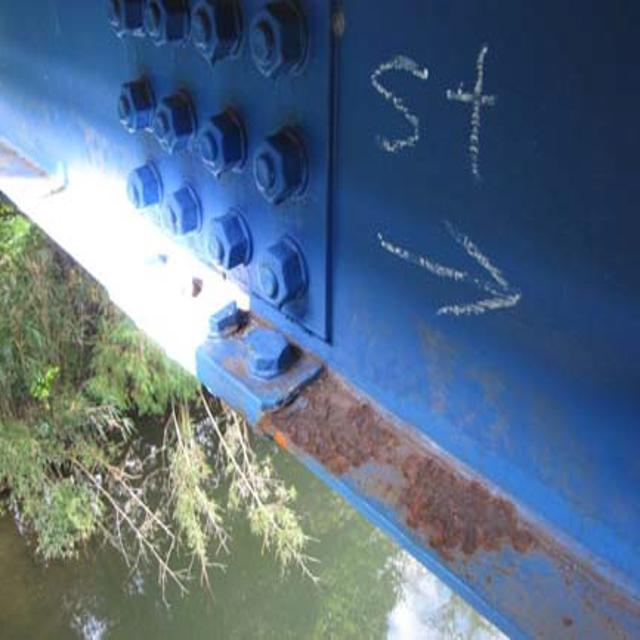corrosion: (266, 347, 533, 560)
